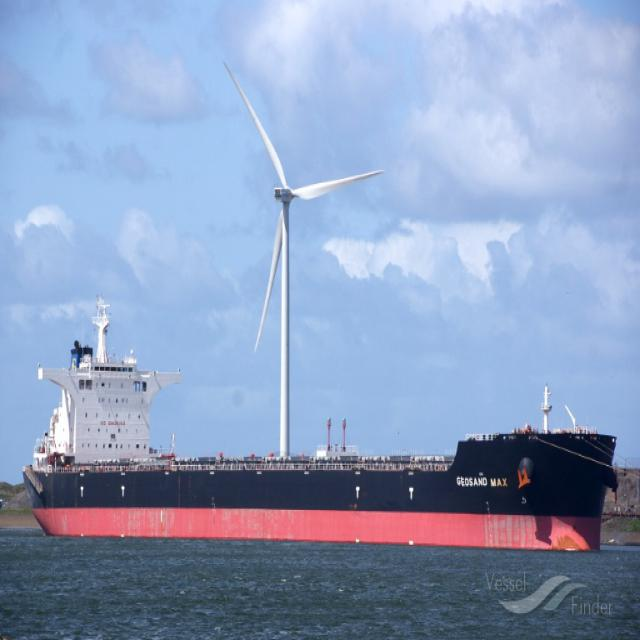OCR: (448, 464, 514, 494)
